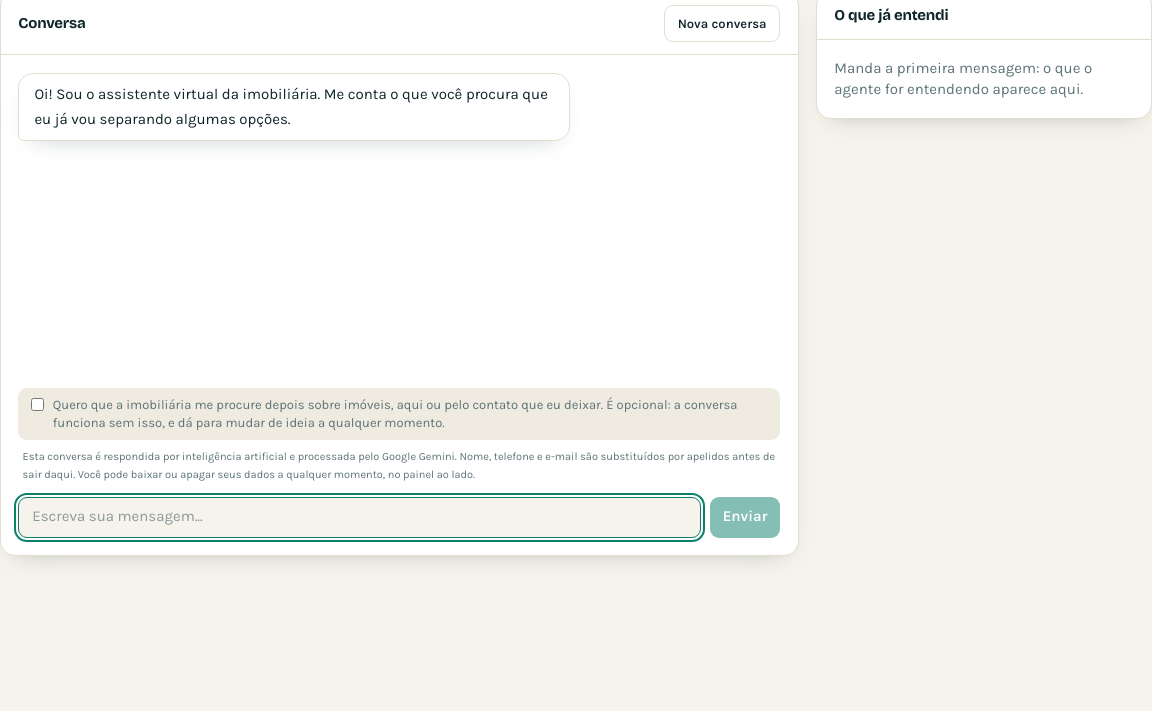
Test case: controles de LGPD com o backend fora › avisa que os dados NÃO foram apagados, em vez de piscar o botão
Step 1. Type "oi" into the field with placeholder "Escreva sua mensagem..." → (360, 517), box [18,497,701,538]
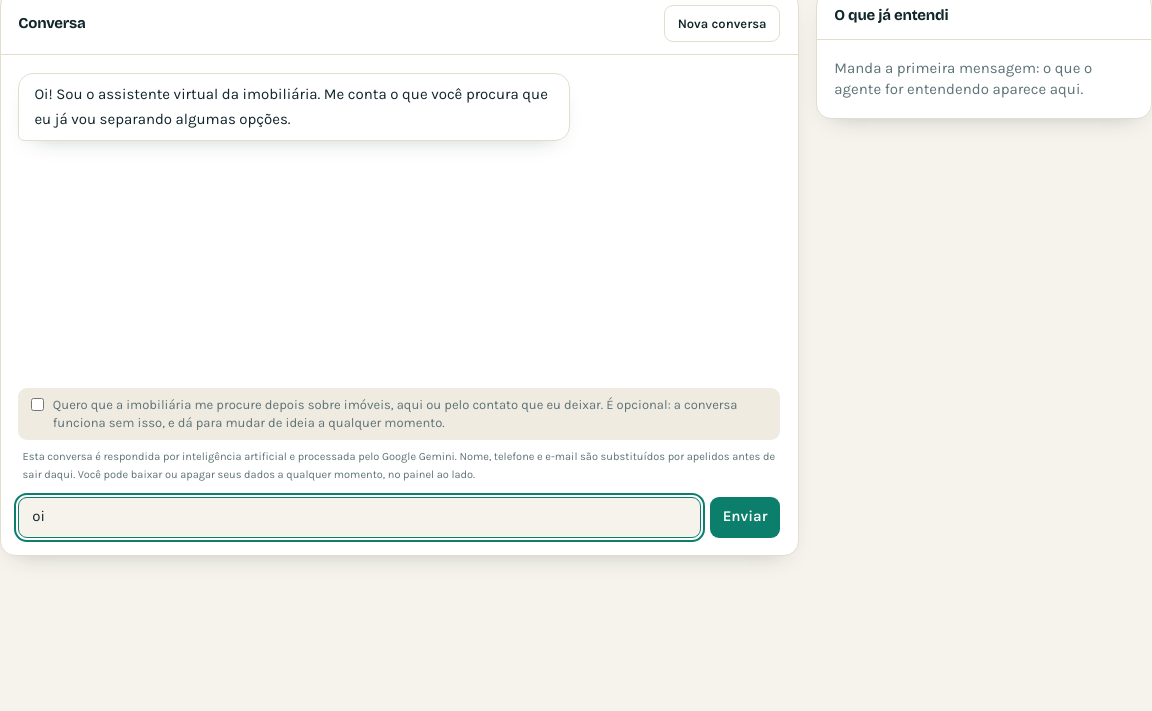
Step 2. Click the button "Enviar" → (745, 517), box [710,497,780,538]
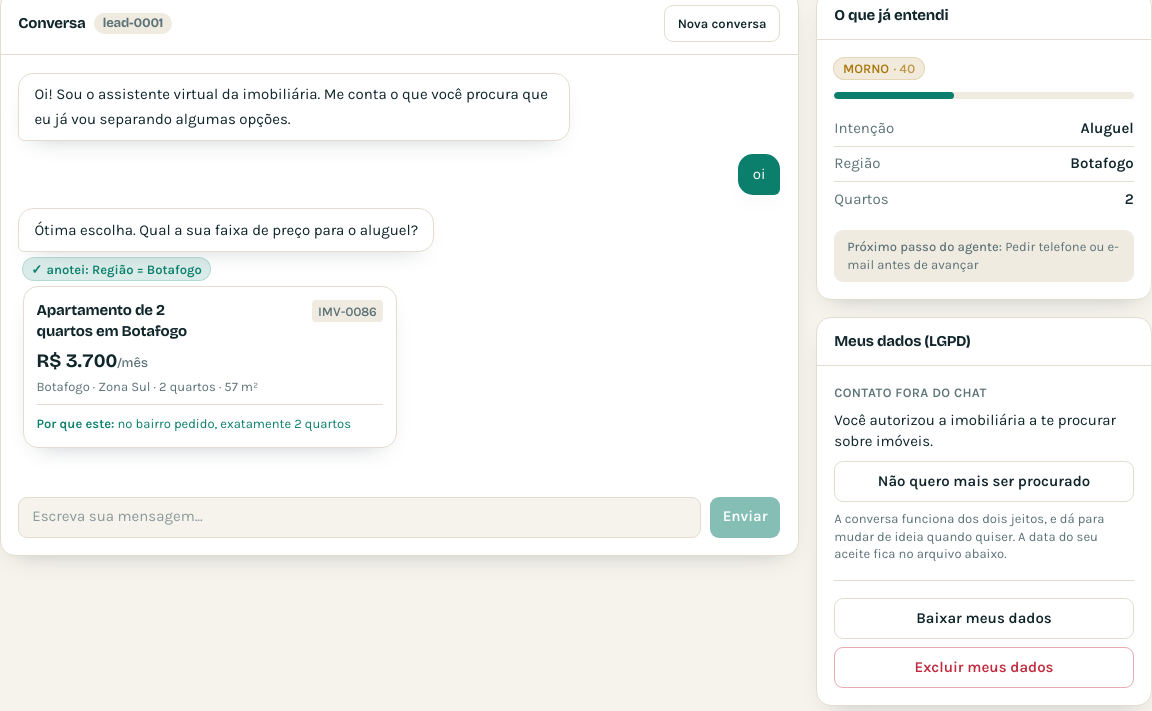
Step 3. Click the button "Excluir meus dados" → (984, 668), box [834,647,1134,688]
(page scrolled)
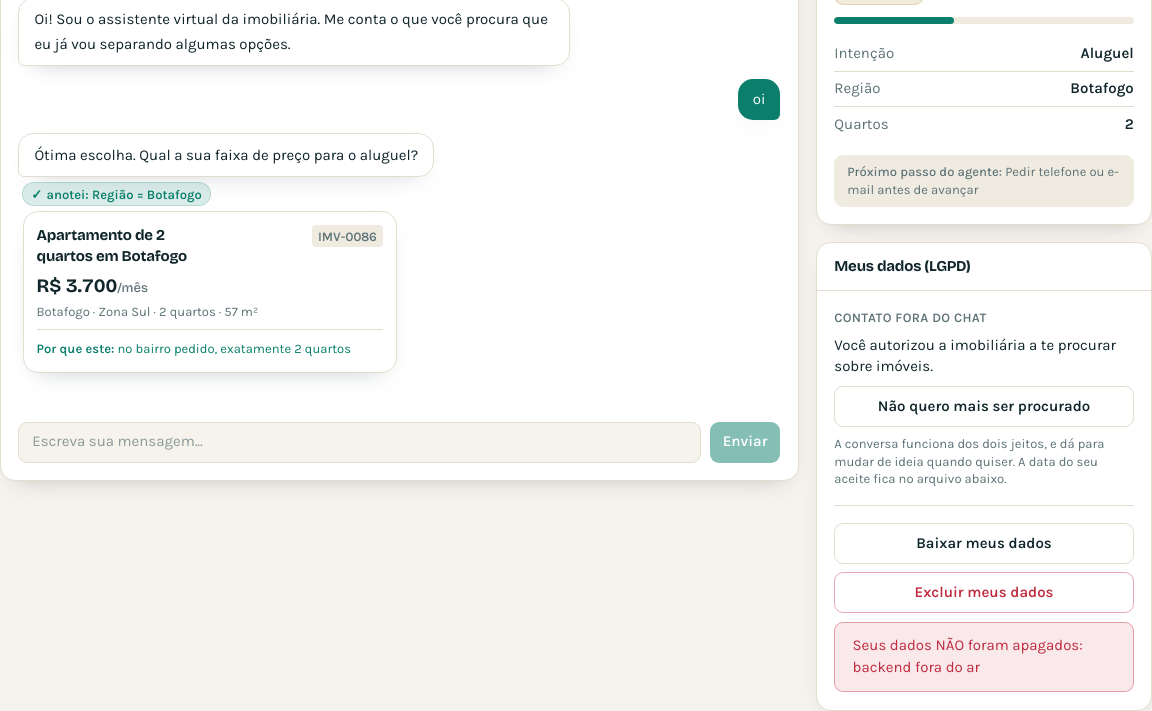
Result: the text "Seus dados NÃO foram apagados: backend fora do ar" is shown at [852,636,1115,678]
